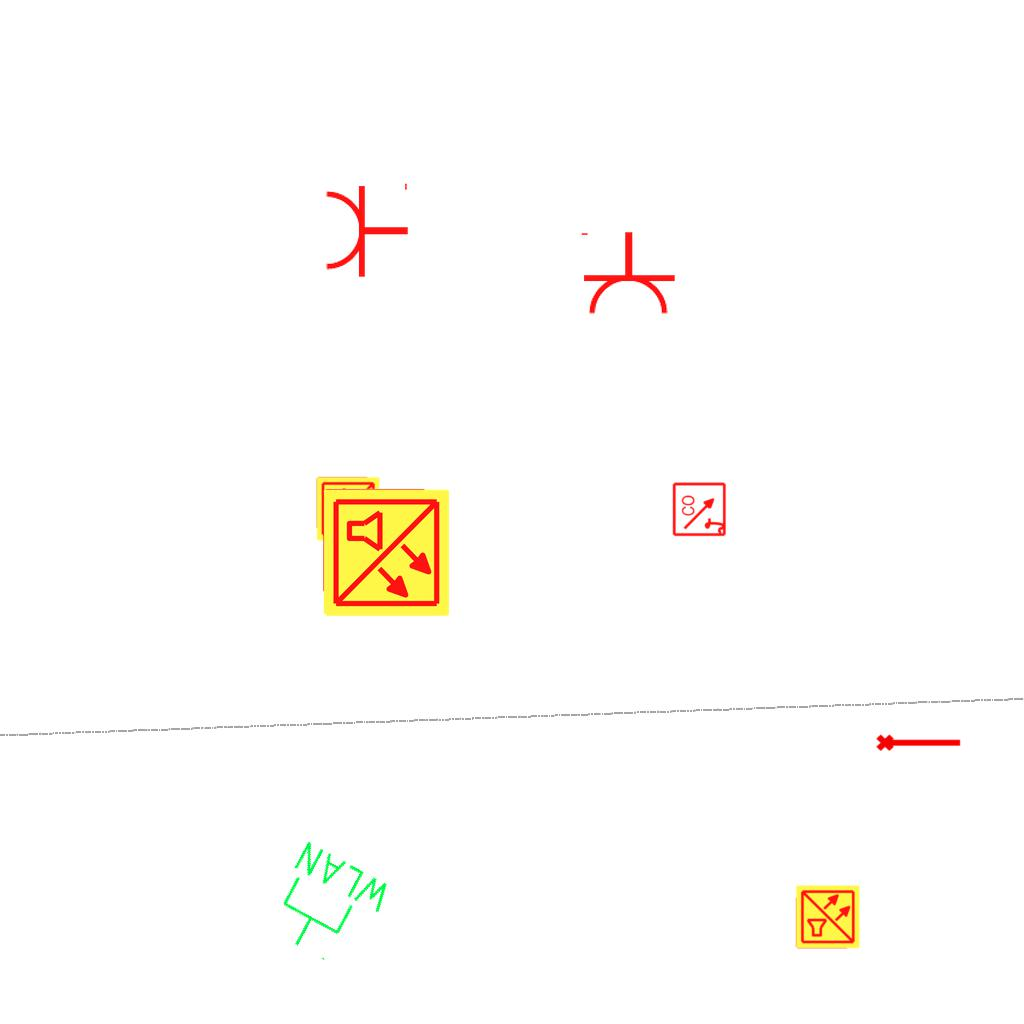ASR_Ansaugoeffnung: (875, 730, 963, 753)
OKW_Multisensormelder_(Kombination_optischer_Rauch-Kahlenmonoxid_Waerme-Melder): (320, 487, 452, 619), (795, 884, 861, 950), (315, 476, 381, 542)
ROA_Rauchmelder_optisch_mit_Signalgeber_(Sockelsirene): (672, 481, 728, 537)
Schukosteckdose_einfach: (323, 179, 410, 279), (577, 230, 677, 317)
WLAN: (257, 835, 399, 978)
